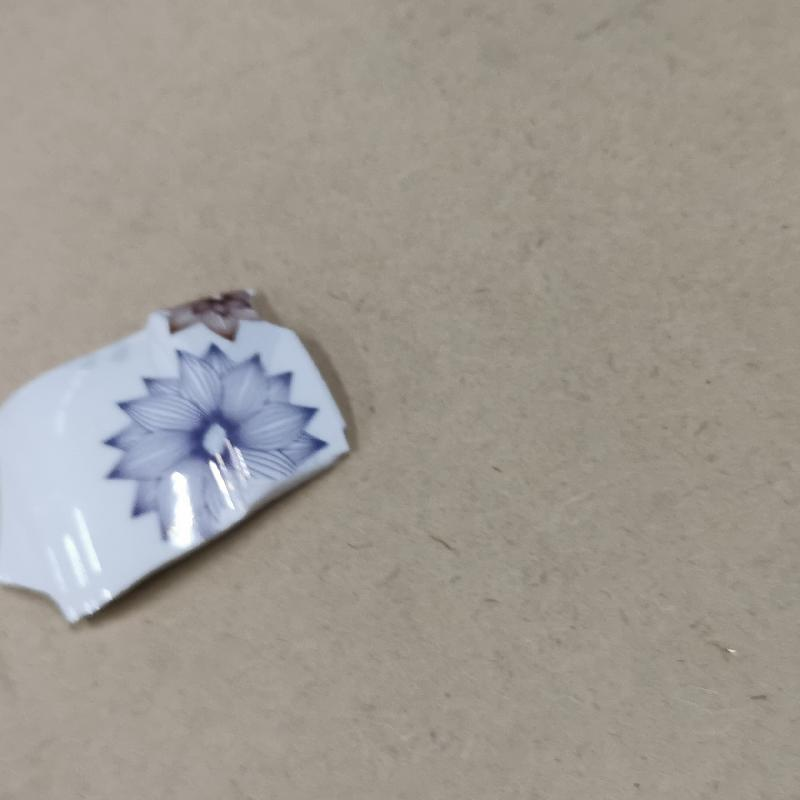ceram: (0, 287, 386, 621)
